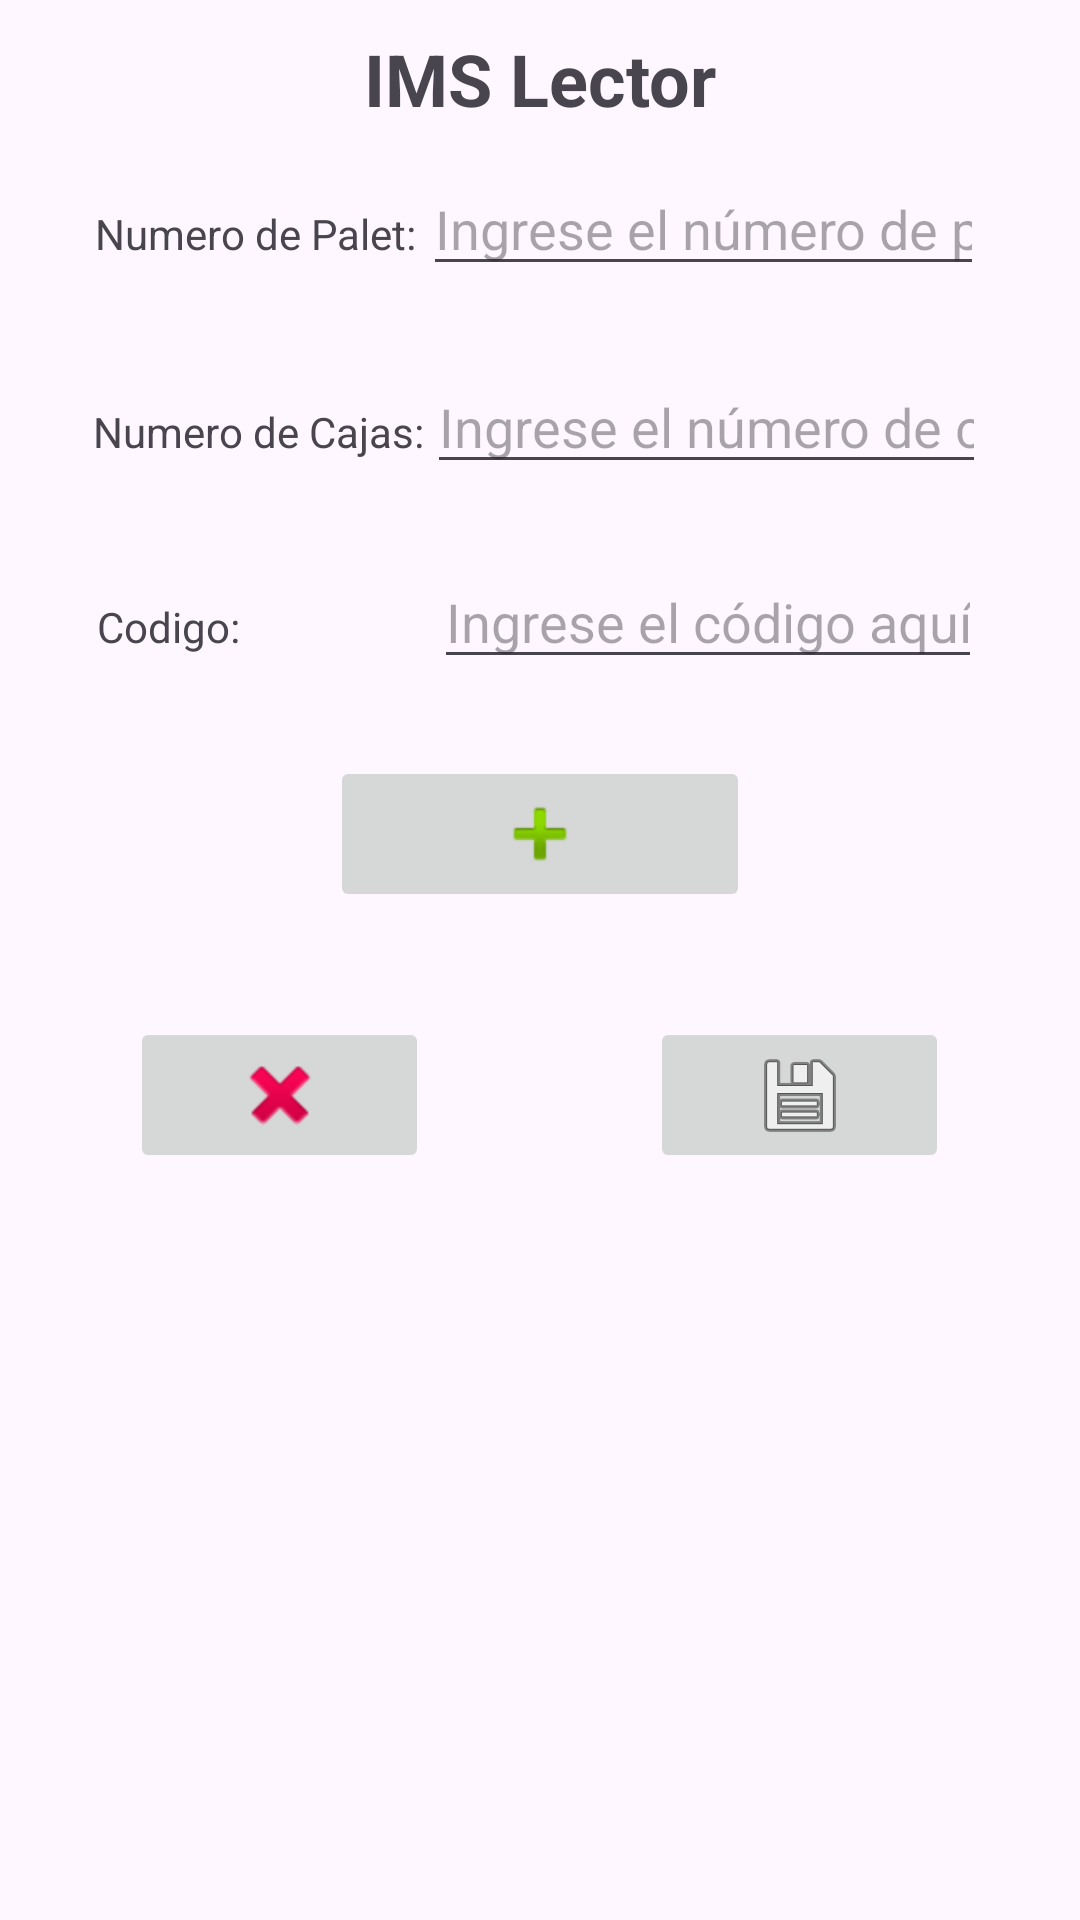

Icons on this 1080x1920 Android screen, each with its box as (x1, y1, x2, y2):
Eliminar: (142, 1035, 417, 1155)
Guardar: (662, 1035, 937, 1155)
